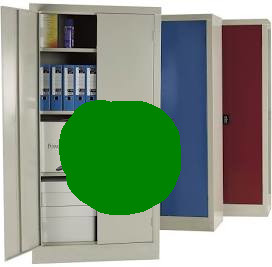focus: (54, 98, 185, 216)
